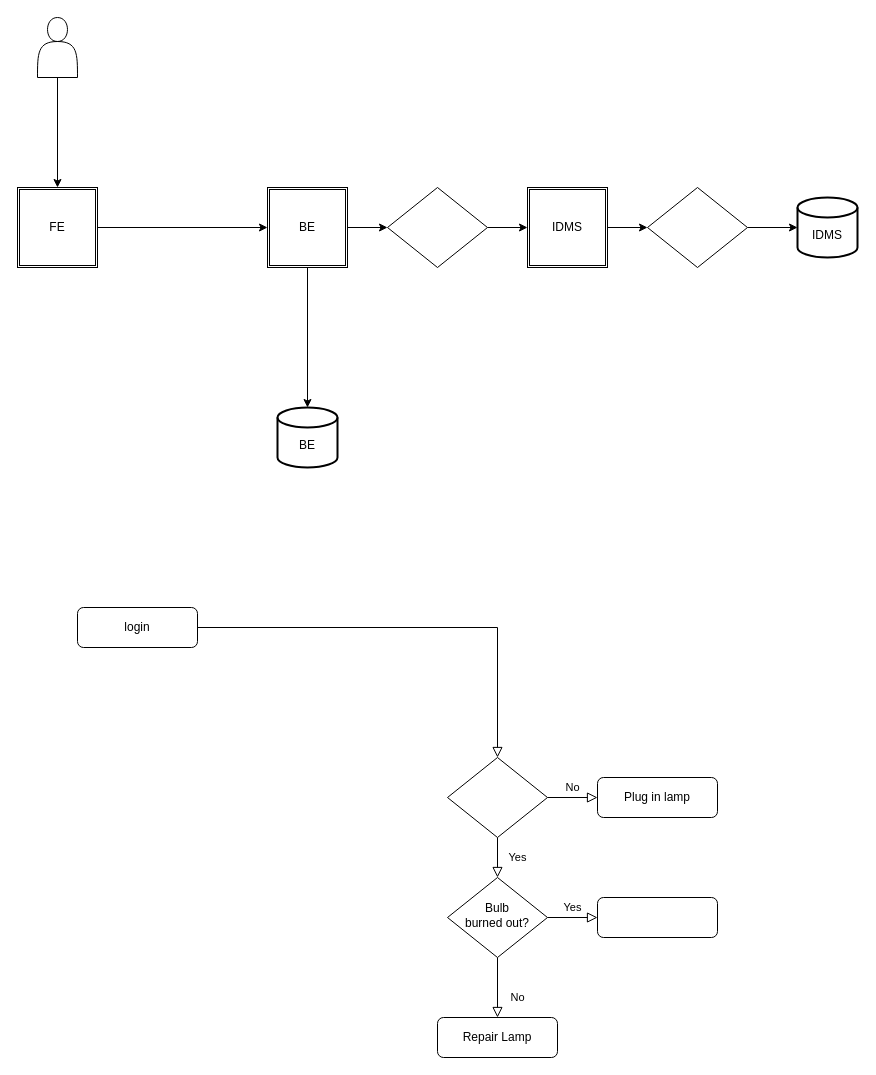
Image size: 876x1075. Some labels were removed from this diagram. The shapes that lost their labels are listed below. From the top down, each one's box as (x1, y1, x2, y2) in pixels, then its label:
(386, 186, 488, 268): secret
(646, 186, 748, 268): decode
(446, 756, 548, 838): Lamp plugged in?
(596, 896, 718, 938): Replace Bulb
